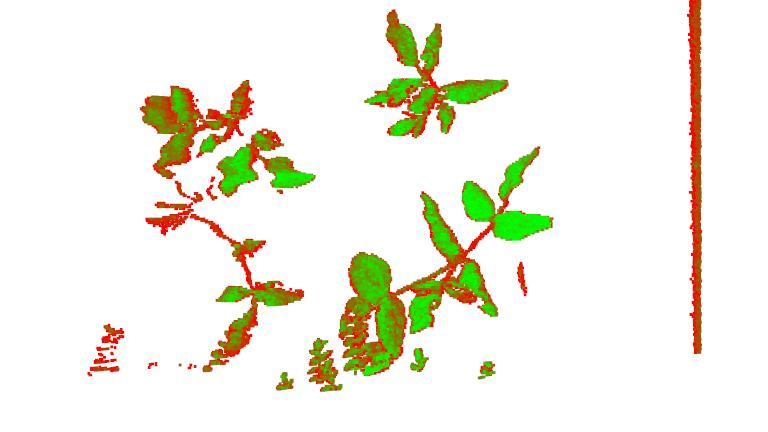mungbean: (352, 140, 550, 371), (150, 194, 308, 371), (136, 80, 318, 192), (364, 11, 510, 140)
